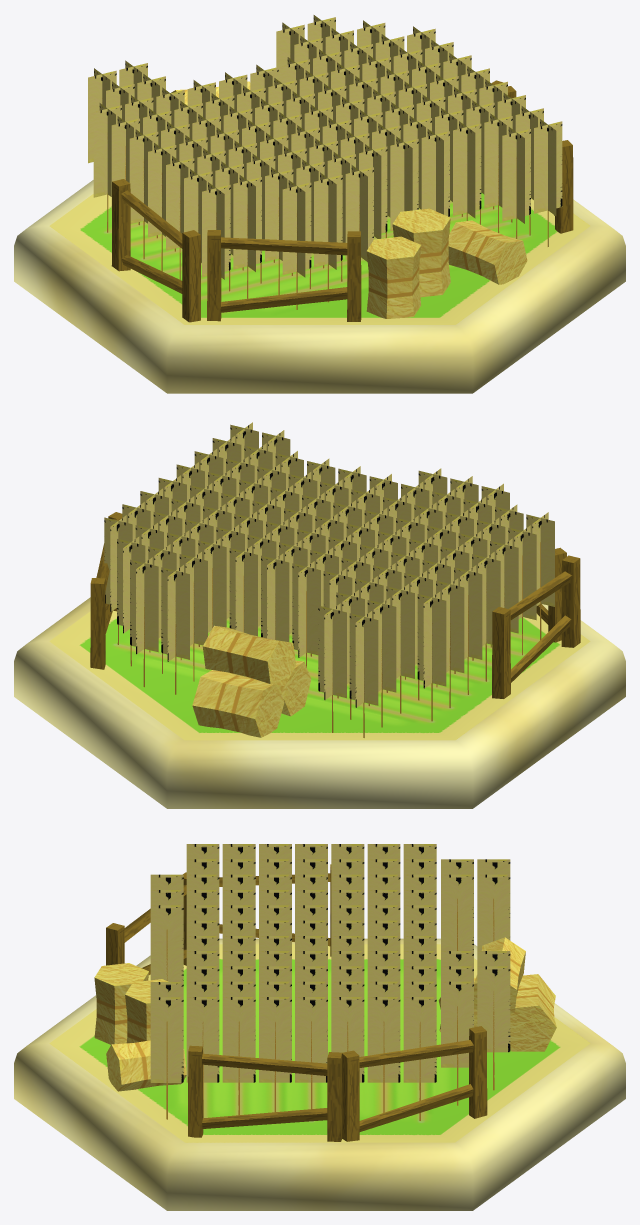
Rendered from Resource_Wheat.gltf.
3 views of the same model, one above another, from view 1: azimuth 30°, elevation 25°; view 2: azimuth 150°, elevation 25°; view 3: azimuth 270°, elevation 25° (orthographic).
Visible parts, largest first — view 1: Wheat; view 2: Wheat; view 3: Wheat.
Part boxes in pixels (x1=…): Wheat: x1=14, y1=15, x2=625, y2=393; Wheat: x1=14, y1=422, x2=625, y2=808; Wheat: x1=14, y1=844, x2=625, y2=1210.
Size of the model in its own units: 1.73 by 0.6337 by 2.
Materials: 1 (1 with a texture image).
